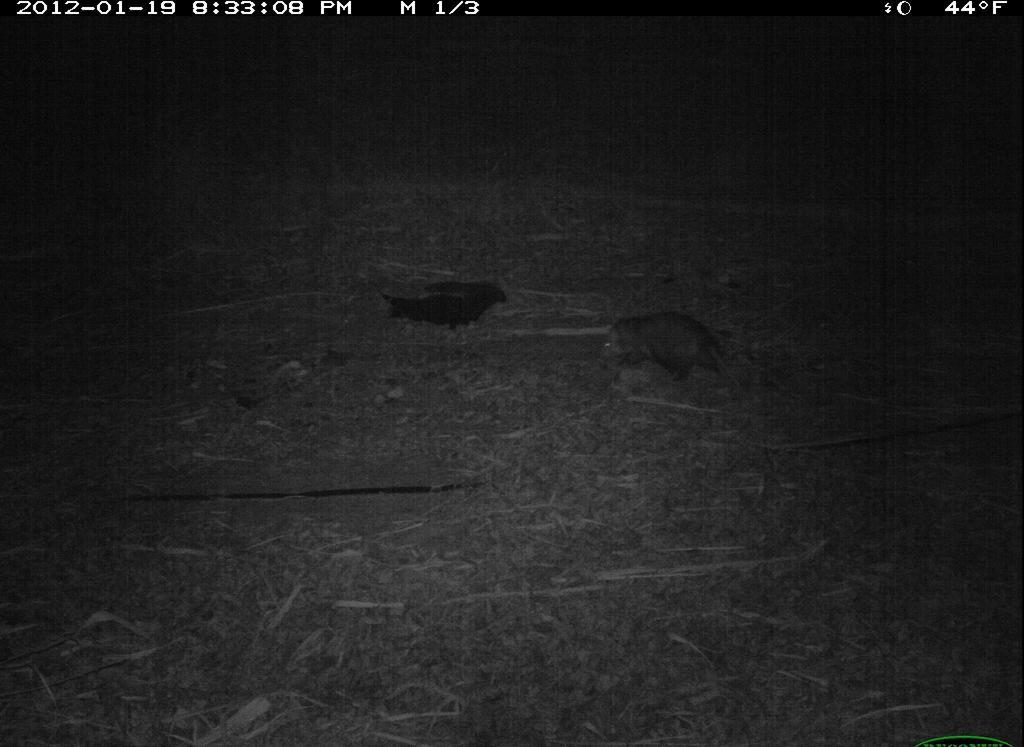opossum: (592, 308, 752, 386)
